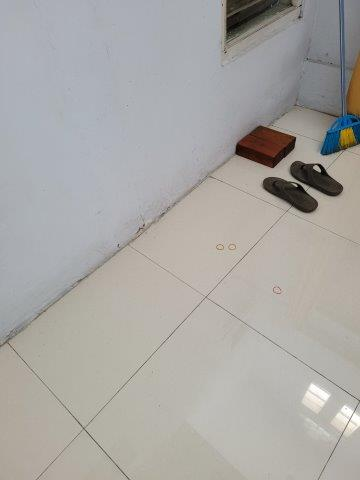karet: (217, 242, 238, 252), (273, 284, 282, 294)
